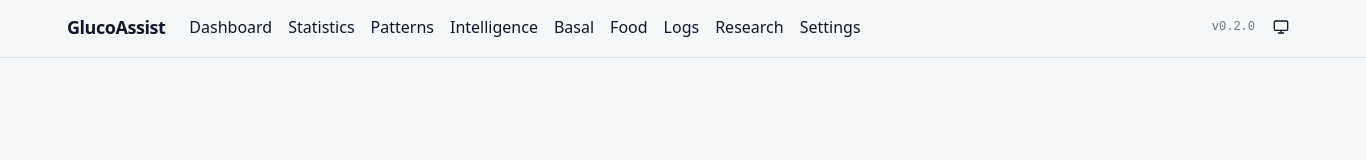
Test case: VersionChip in AppLayout › shows ✓ after copy
What coordinates should you click on to do the following:
click the button named "app version"
I would click on:
 (1233, 27)
Its box is [1212, 19, 1255, 35].
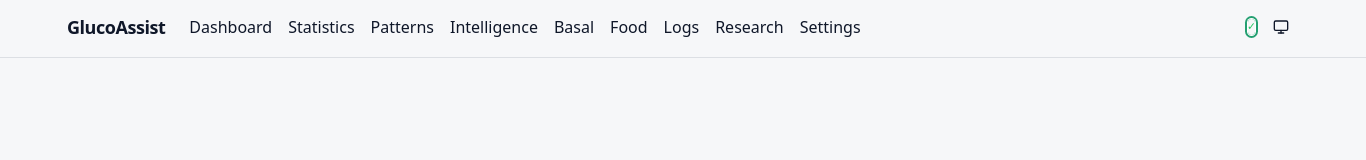
Expected: the text "✓" is shown, [1248, 19, 1255, 35]
